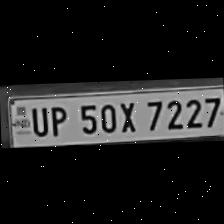0: (96, 98, 118, 132)
2: (162, 95, 182, 129), (182, 93, 202, 127)
5: (72, 99, 98, 133)
7: (140, 96, 162, 130), (200, 92, 222, 126)
P: (45, 101, 69, 135)
U: (26, 101, 48, 135)
X: (115, 98, 139, 132)
